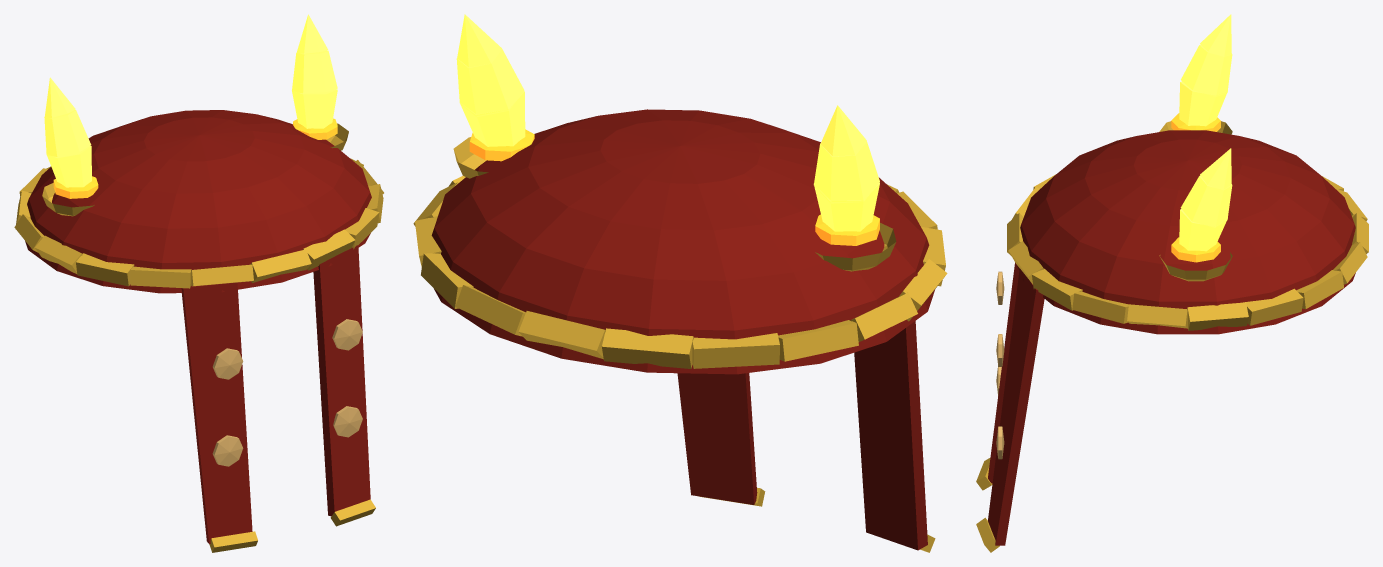
The model's file is scorchtongue_mantle.glb.
3 renders of one model, left to right at view 1: azimuth 30°, elevation 25°; view 2: azimuth 150°, elevation 25°; view 3: azimuth 270°, elevation 25°, orthographic. The views are drawn at different scales.
Visible parts, largest first — view 1: scorchtongue_mantle; view 2: scorchtongue_mantle; view 3: scorchtongue_mantle.
Part boxes in pixels (bbox=[...]): scorchtongue_mantle: bbox=[14, 14, 383, 552]; scorchtongue_mantle: bbox=[413, 14, 947, 552]; scorchtongue_mantle: bbox=[976, 14, 1368, 552].
Size of the model in its own units: 0.9978 by 1.16 by 0.9631.
